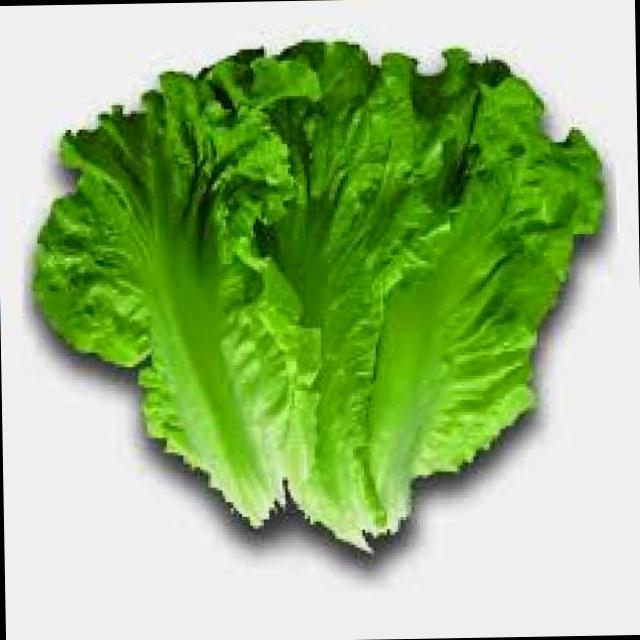Lettuce-Ready-to-Harvest: (33, 42, 603, 549)
